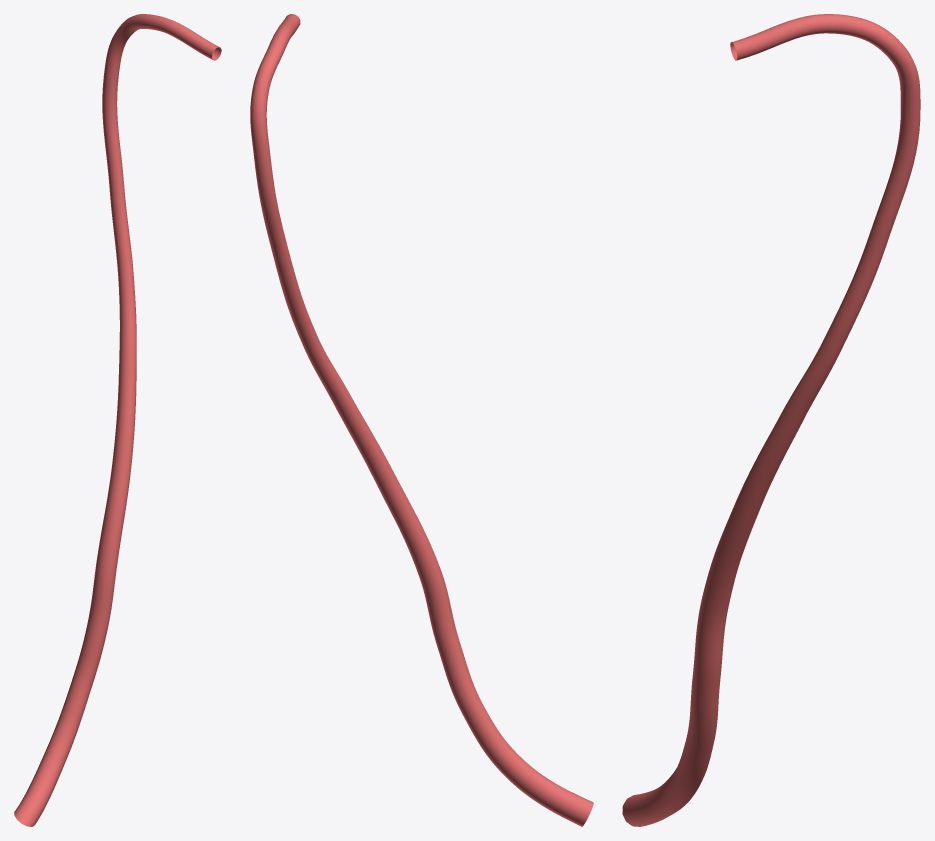
Rendered from Ascending_branch_left_colic_artery.glb.
3 views of the same model, side by side, from view 1: azimuth 30°, elevation 25°; view 2: azimuth 150°, elevation 25°; view 3: azimuth 270°, elevation 25° (orthographic). The views are drawn at different scales.
Visible parts, largest first — view 1: Ascending_branch_of_left_colic_artery_BezierCurve.257; view 2: Ascending_branch_of_left_colic_artery_BezierCurve.257; view 3: Ascending_branch_of_left_colic_artery_BezierCurve.257.
Part boxes in pixels (x1,y1,x2,y2): Ascending_branch_of_left_colic_artery_BezierCurve.257: (14, 14, 221, 826); Ascending_branch_of_left_colic_artery_BezierCurve.257: (250, 14, 593, 826); Ascending_branch_of_left_colic_artery_BezierCurve.257: (622, 14, 920, 826).
Size of the model in its own units: 0.0318 by 0.0896 by 0.0256.
